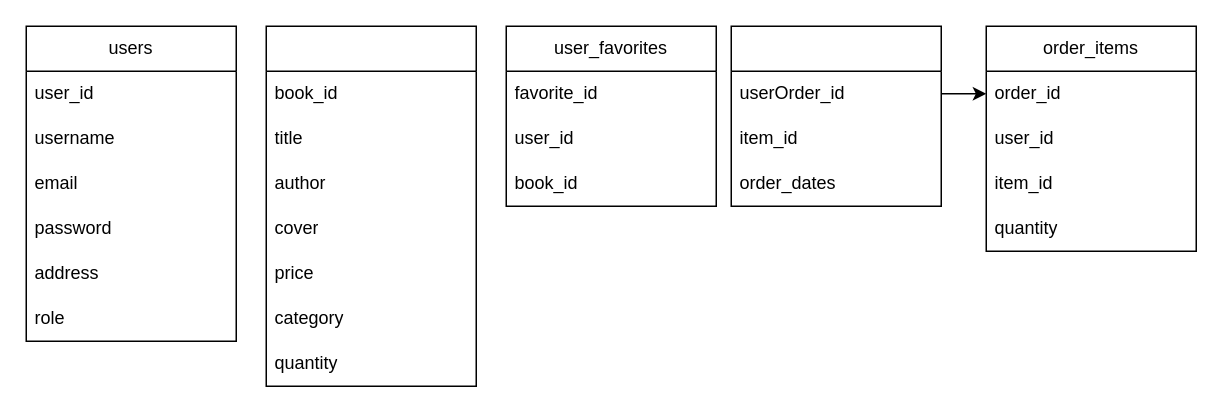
Image size: 1223x413. Some labels were removed from this diagram. Each missing label, with the box of its shape:
books: (265, 25, 476, 386)
orders: (730, 25, 941, 206)
